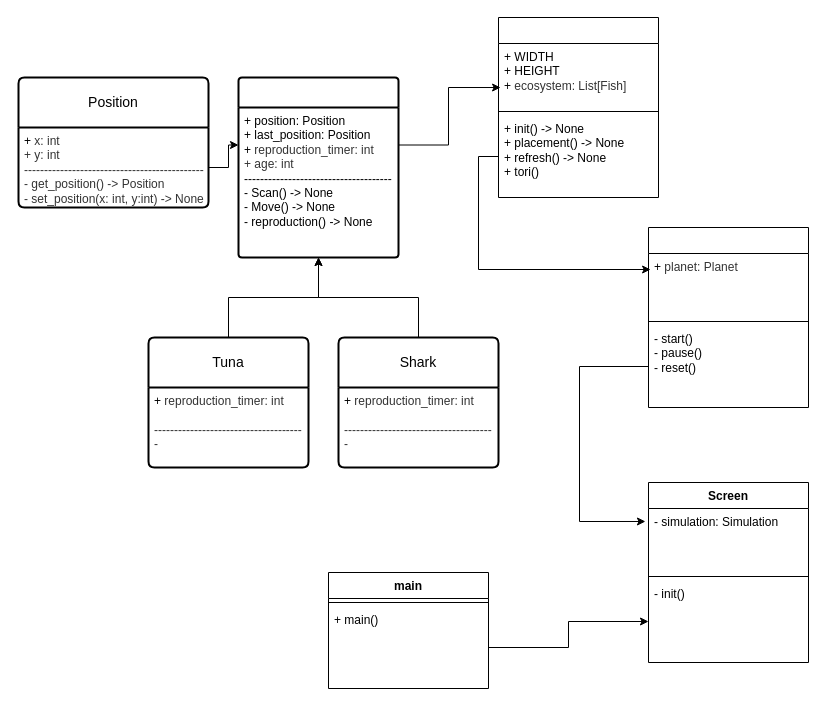
Image size: 826x709. Some labels were removed from this diagram. The shapes that lost their labels are listed below. From the top down, each one's box as (x1, y1, x2, y2) in pixels, then its label:
(498, 16, 658, 198): Planet
(237, 76, 399, 258): Fish
(648, 226, 808, 408): Simulation
